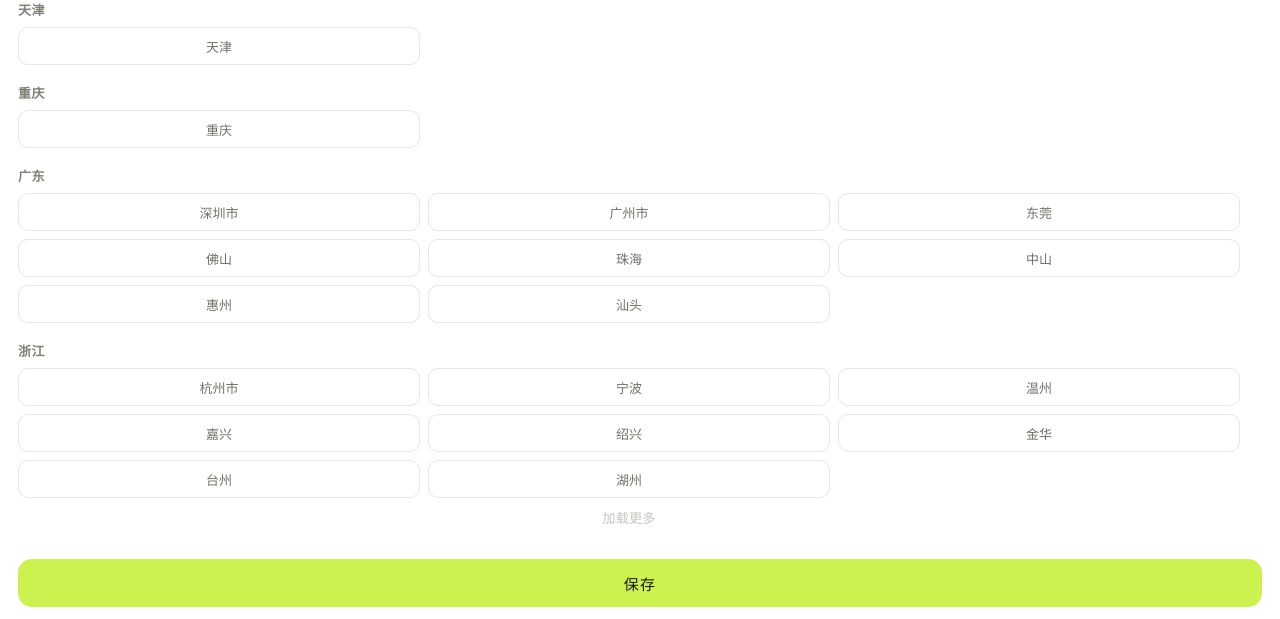
选择城市 Mock（行政分组共用正文） › Mock 局部分页：加载更多把更多行政分组切进来，翻完见港澳台三组
(page scrolled)
Expected: the text "广东" is shown, [18,168,45,184]
Click the button "加载更多": coordinates (629, 518) [18,498,1240,537]
(page scrolled)
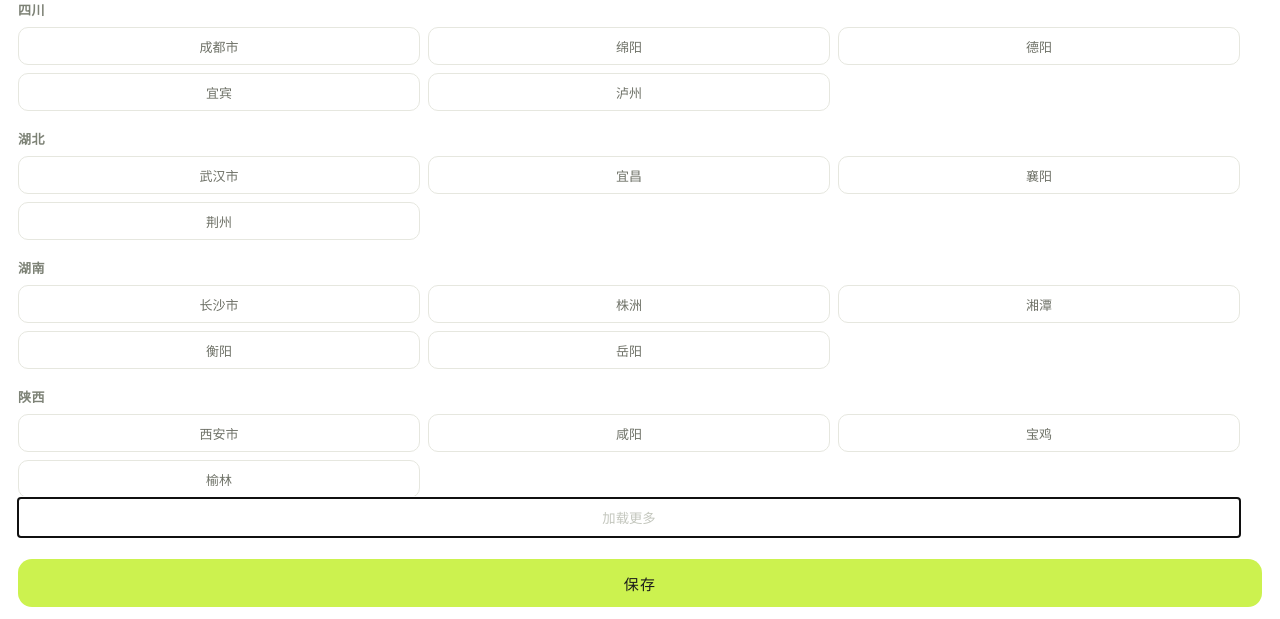
Click the button "加载更多": coordinates (629, 518) [18,498,1240,537]
(page scrolled)
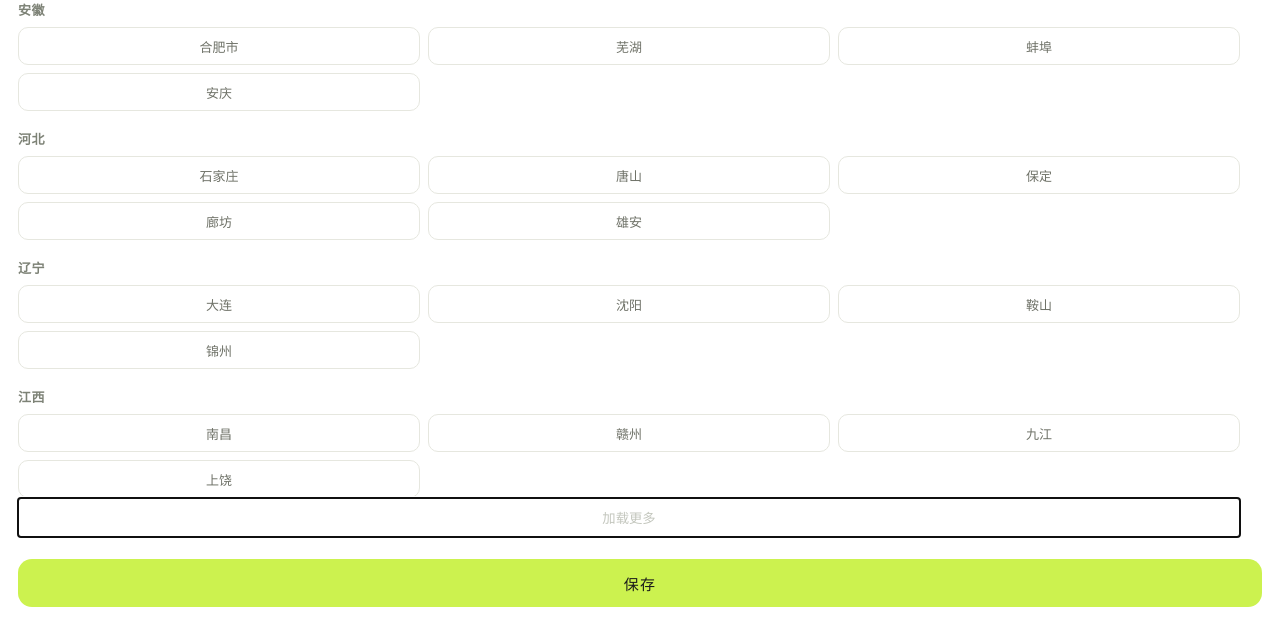
Click the button "加载更多": coordinates (629, 518) [18,498,1240,537]
(page scrolled)
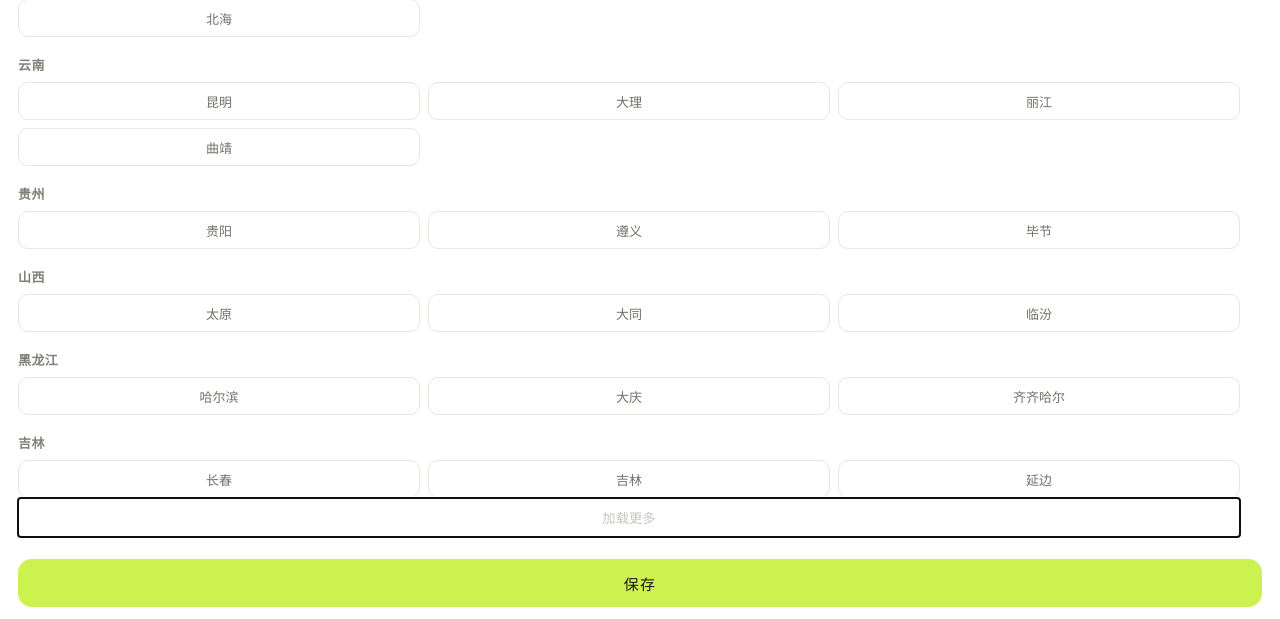
Click the button "加载更多": coordinates (629, 518) [18,498,1240,537]
(page scrolled)
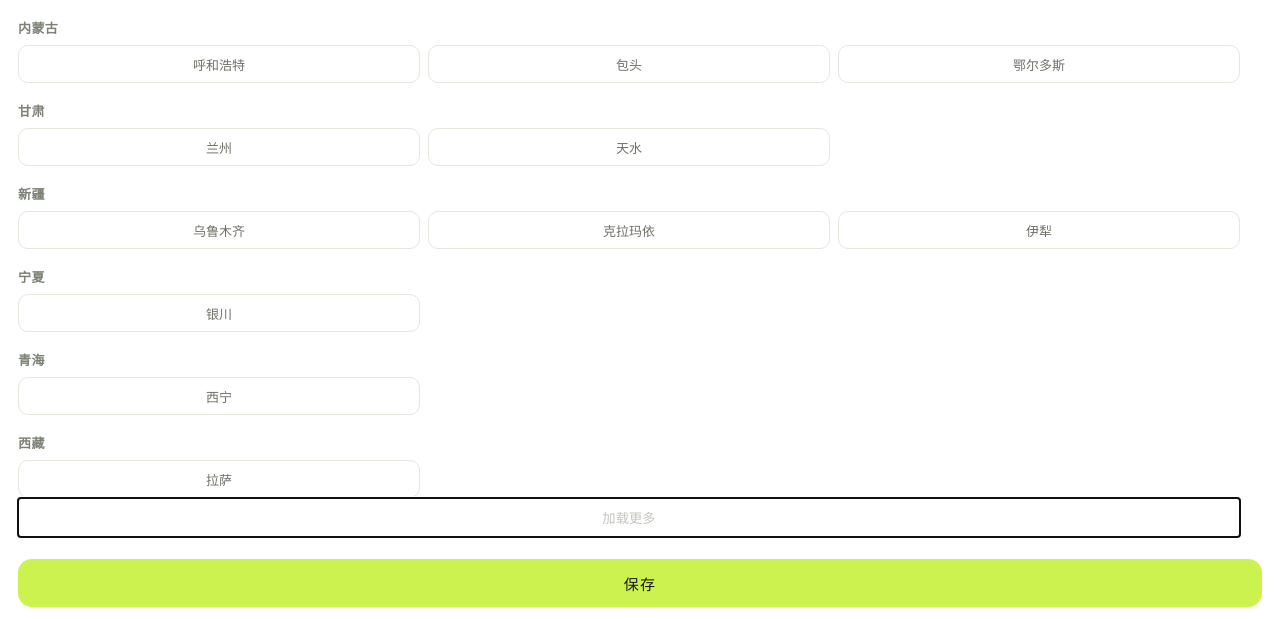
Click the button "加载更多": coordinates (629, 518) [18,498,1240,537]
(page scrolled)
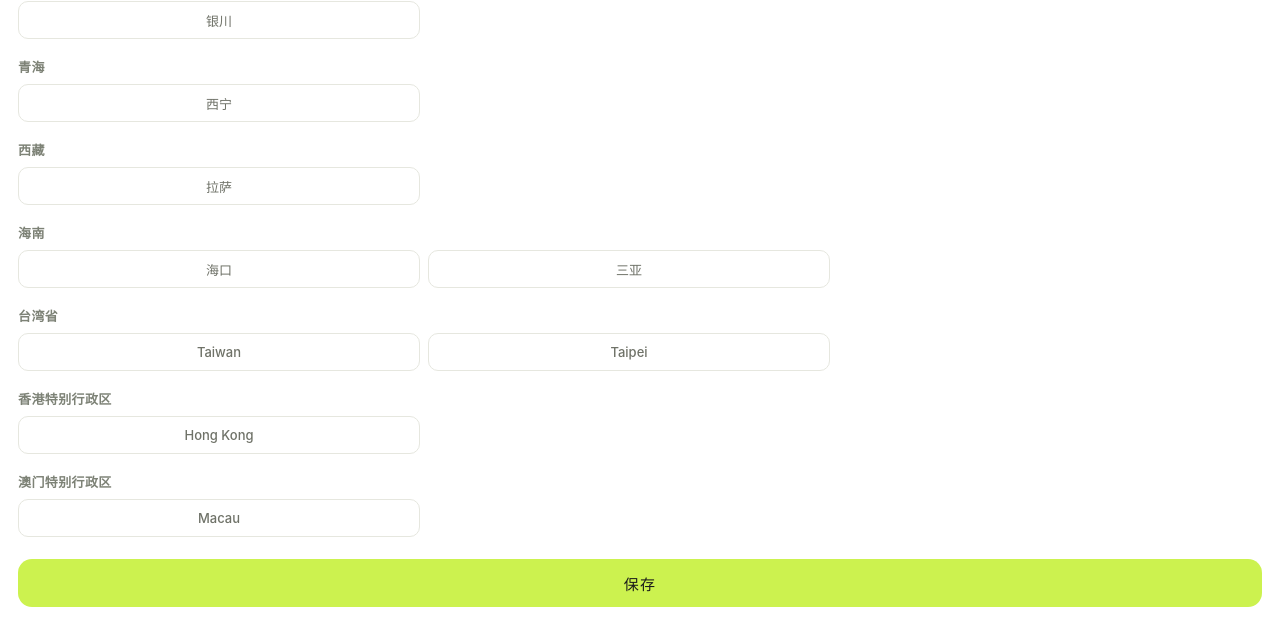
Now the text "台湾省" is shown, box [18,308,58,324]
Now the text "香港特别行政区" is shown, box [18,391,112,407]
Now the text "澳门特别行政区" is shown, box [18,474,112,490]
